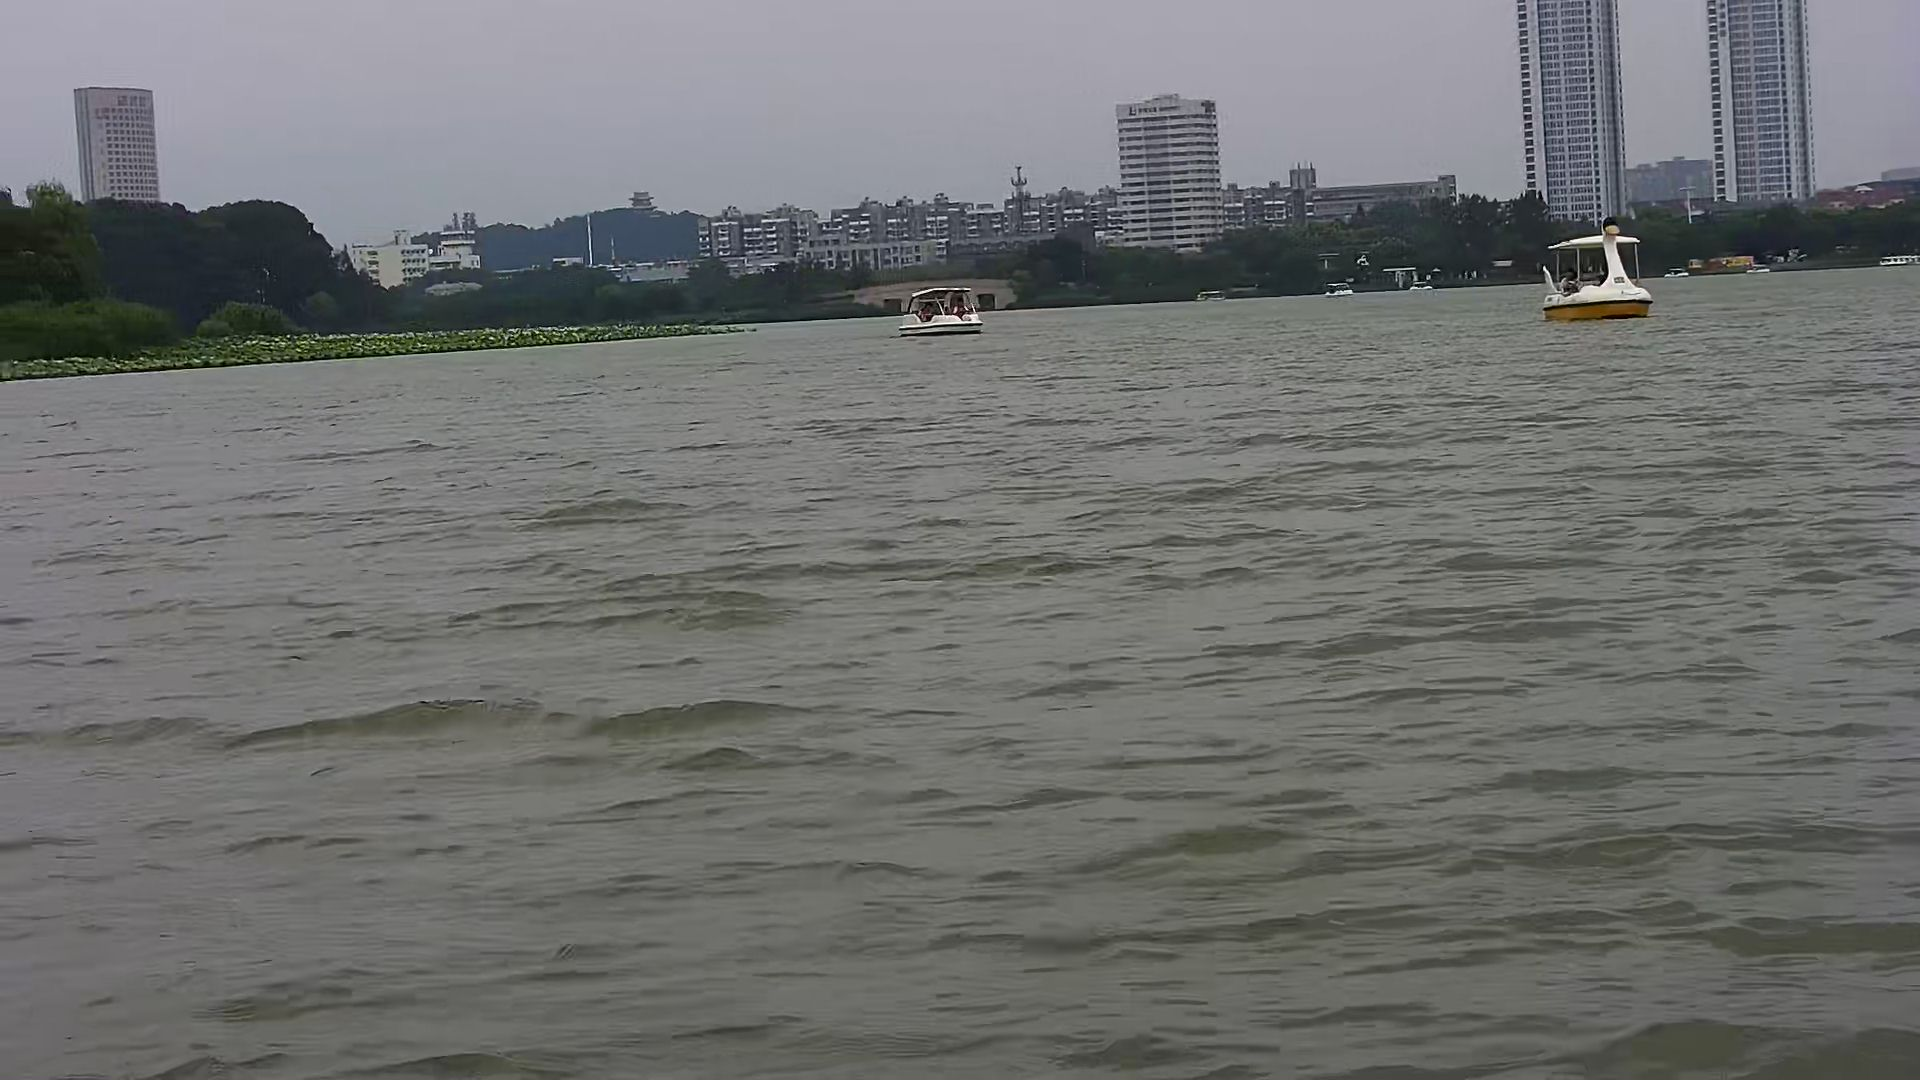boat: (1535, 211, 1658, 323), (893, 284, 992, 335)
